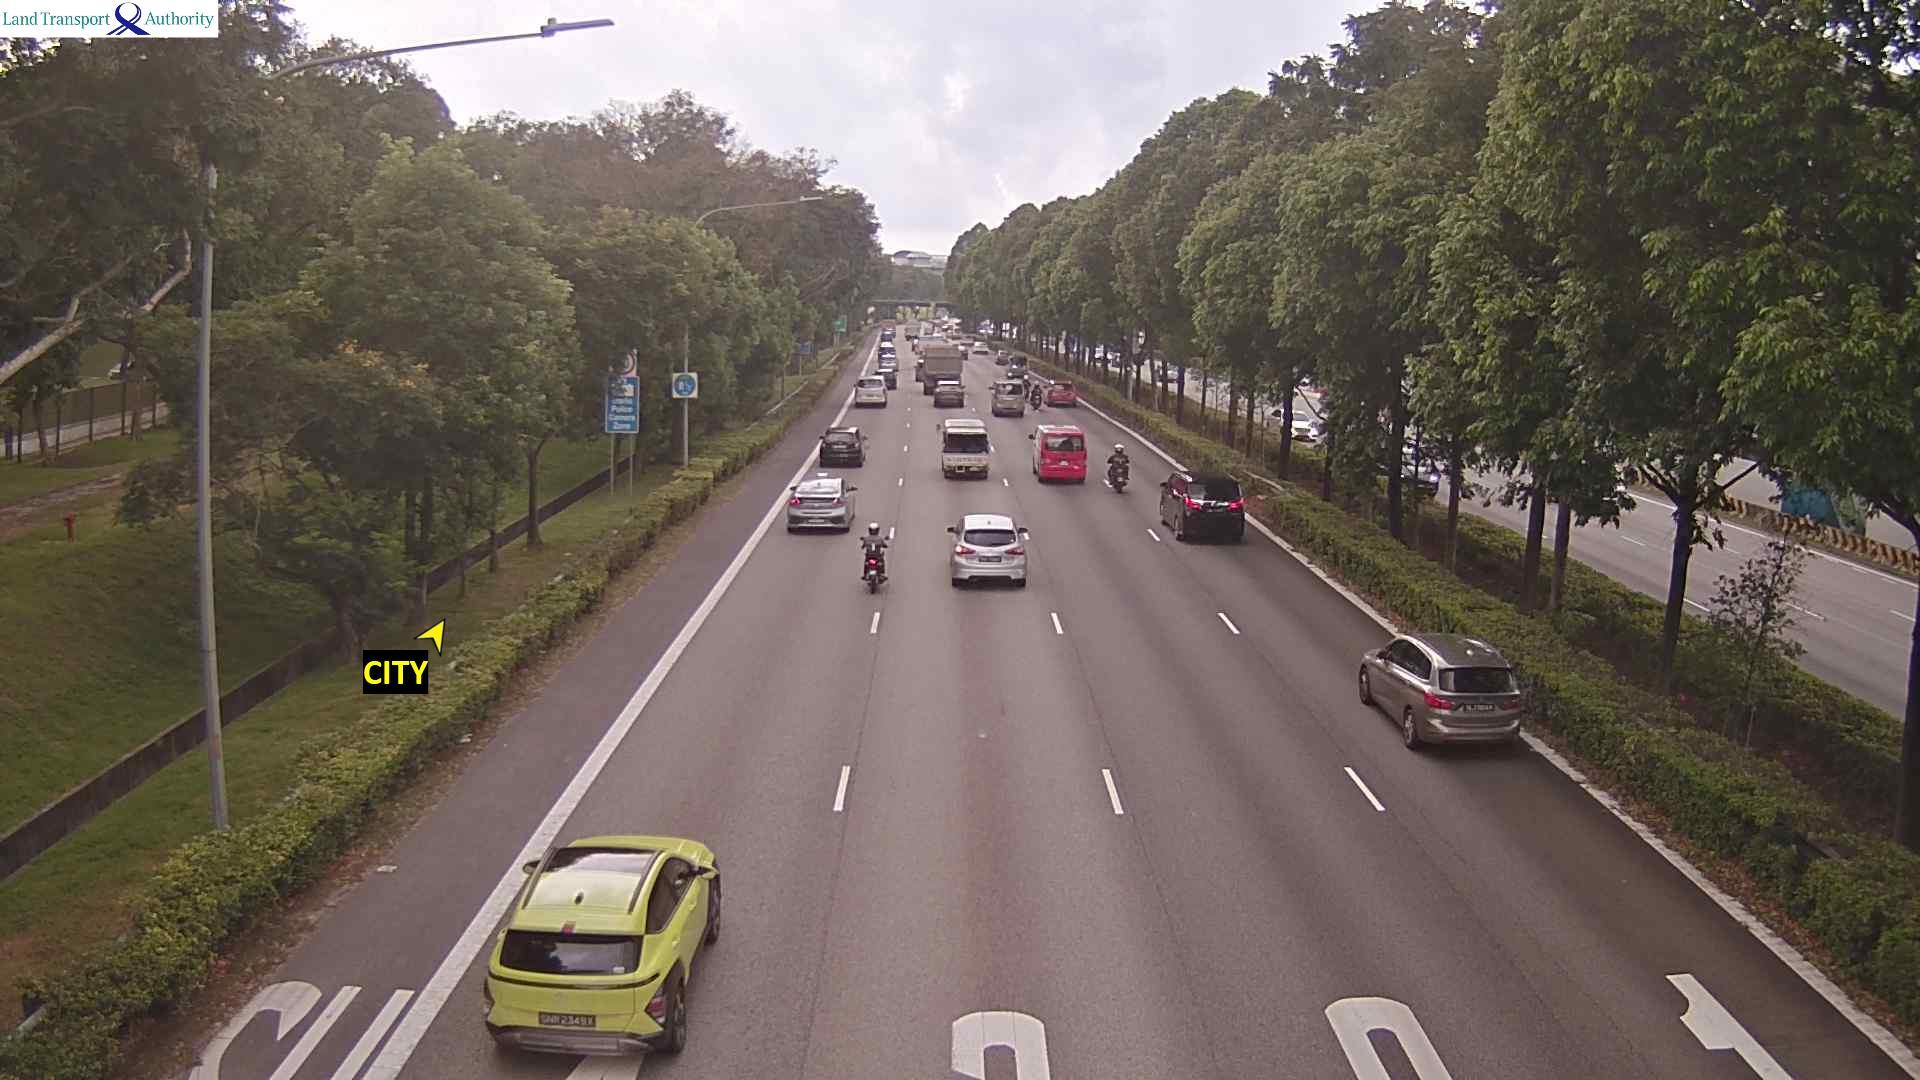cars: (482, 832, 721, 1057), (1357, 630, 1523, 750), (1157, 469, 1245, 543), (946, 512, 1030, 588), (784, 474, 857, 533), (1374, 436, 1440, 497), (1028, 422, 1087, 483), (936, 416, 994, 478), (817, 424, 865, 466), (1270, 406, 1319, 442), (990, 378, 1026, 416), (852, 374, 886, 406), (932, 377, 964, 407), (871, 366, 905, 394), (1023, 372, 1048, 408), (1043, 379, 1076, 406), (1290, 416, 1318, 442), (1154, 362, 1181, 383), (1005, 353, 1027, 378), (877, 345, 898, 370), (936, 326, 966, 343), (879, 329, 898, 346), (970, 339, 990, 355)
motorcycle: (857, 523, 894, 593), (1104, 457, 1130, 494), (912, 357, 923, 381)
trucks: (927, 342, 967, 392), (902, 324, 925, 343)
